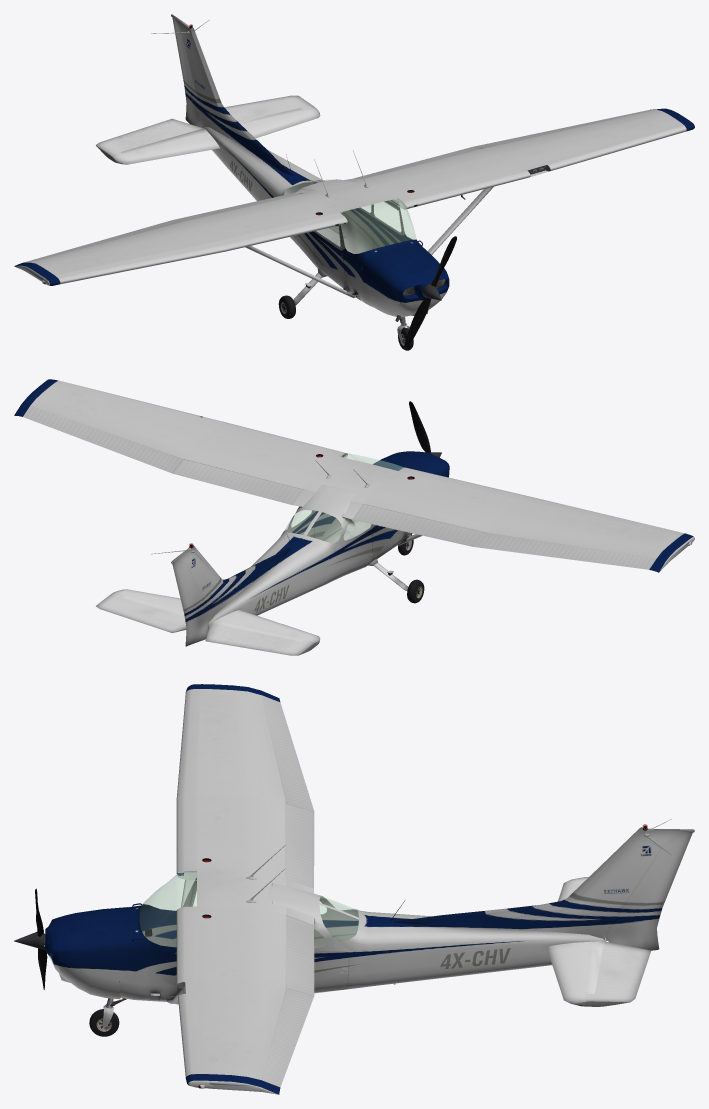
3 renders of one model, top to bottom at view 1: azimuth 30°, elevation 25°; view 2: azimuth 150°, elevation 25°; view 3: azimuth 270°, elevation 25°, orthographic. The views are drawn at different scales.
Visible parts, largest first — view 1: body, wing_left_inner, wing_right_inner, wing_right_outer, wing_left_outer, fuselage_rear, stab, elevator, fin, rudder, propeller_blades, aileron_right (+3 smaller); view 2: body, fuselage_rear, wing_left_outer, wing_right_outer, wing_left_inner, wing_right_inner, elevator, aileron_right, aileron_left, stab, flap_left, flap_right (+4 smaller); view 3: body, fuselage_rear, wing_right_inner, wing_right_outer, wing_left_outer, wing_left_inner, fin, rudder, stab, elevator, aileron_left, aileron_right (+3 smaller).
Part boxes in pixels (x1,y1,x2,y2): body: (247, 150, 492, 323); wing_left_inner: (365, 145, 537, 254); wing_right_inner: (171, 193, 347, 289); wing_right_outer: (14, 225, 213, 285); wing_left_outer: (498, 108, 694, 173); fuselage_rear: (151, 19, 349, 244); stab: (112, 108, 320, 164); elevator: (96, 95, 315, 160); fin: (158, 20, 252, 160); rudder: (171, 14, 204, 128); propeller_blades: (404, 236, 456, 347); aileron_right: (24, 220, 183, 262); body: (293, 451, 449, 575); fuselage_rear: (151, 507, 349, 615); wing_left_outer: (14, 379, 211, 454); wing_right_outer: (498, 498, 694, 572); wing_left_inner: (171, 419, 347, 489); wing_right_inner: (363, 467, 538, 538); elevator: (96, 592, 315, 655); aileron_right: (472, 532, 656, 569); aileron_left: (23, 406, 183, 473); stab: (114, 589, 320, 646); flap_left: (173, 459, 303, 505); flap_right: (352, 504, 483, 546); body: (45, 844, 315, 1006); fuselage_rear: (315, 819, 671, 992); wing_right_inner: (176, 786, 286, 906); wing_right_outer: (177, 684, 284, 794); wing_left_outer: (178, 987, 284, 1094); wing_left_inner: (175, 906, 286, 998); fin: (545, 821, 666, 966); rudder: (605, 829, 694, 950); stab: (547, 877, 599, 1006); elevator: (586, 877, 650, 1006); aileron_left: (261, 988, 314, 1087); aileron_right: (261, 695, 314, 811).
Bounding box in the file's own units: 11.32 × 2.8 × 8.17.
Materials: 17 (15 with a texture image).
